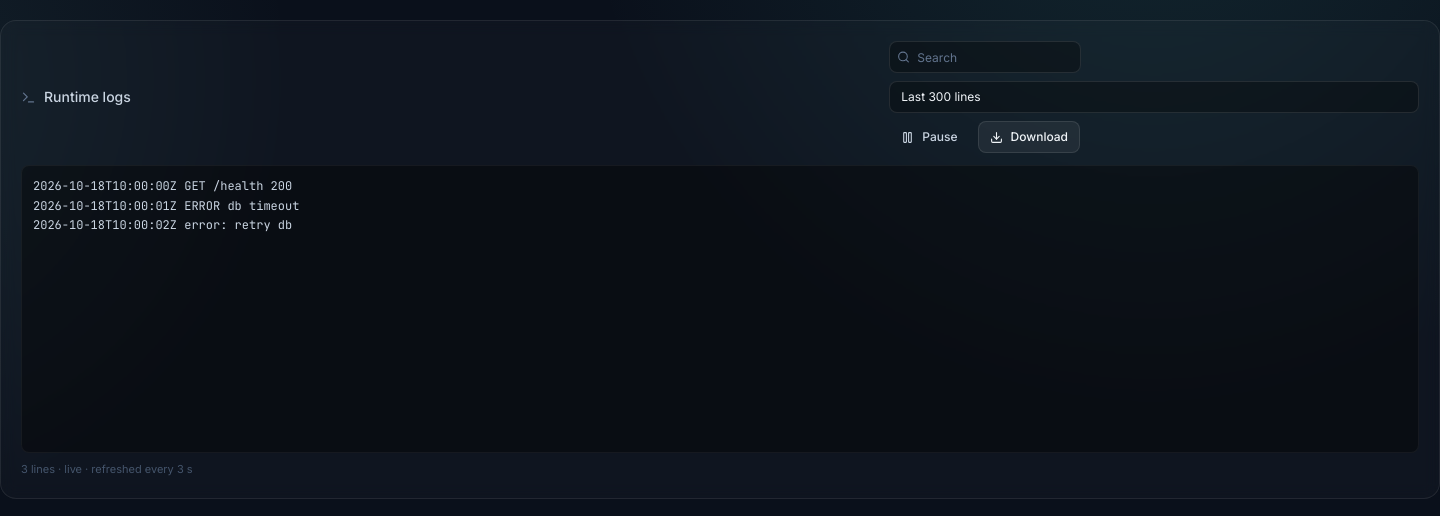
Test: RuntimeLogsCard › shows every line, then only the lines that match the search (case-insensitive), with the matches marked
The image size is (1440, 516).
Expected: the text "3 lines · live · refreshed every 3 s" is shown, [21,462,193,476]
Type "Error" into the field named "Search logs".
click(985, 57); type("Error")  # box [889,41,1081,73]
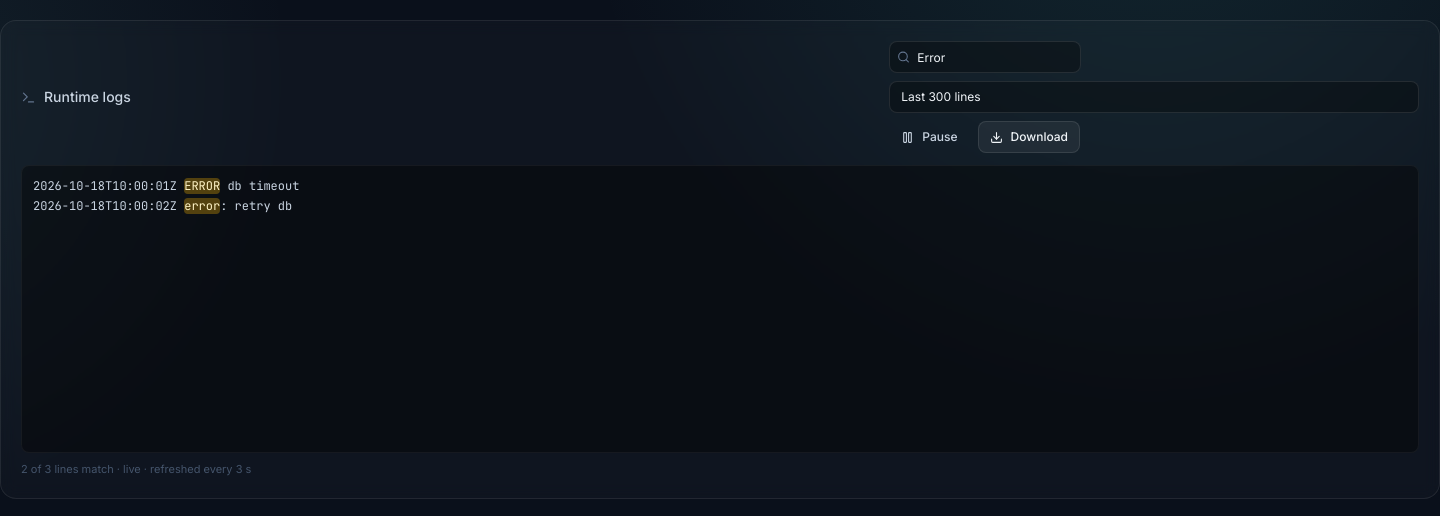
Expected: the text "2 of 3 lines match · live · refreshed every 3 s" is shown, [21,462,251,476]
// Every occurrence in a line is marked.
Replace the text in the field named "Search logs" with "db" at (985, 57), box [889,41,1081,73]
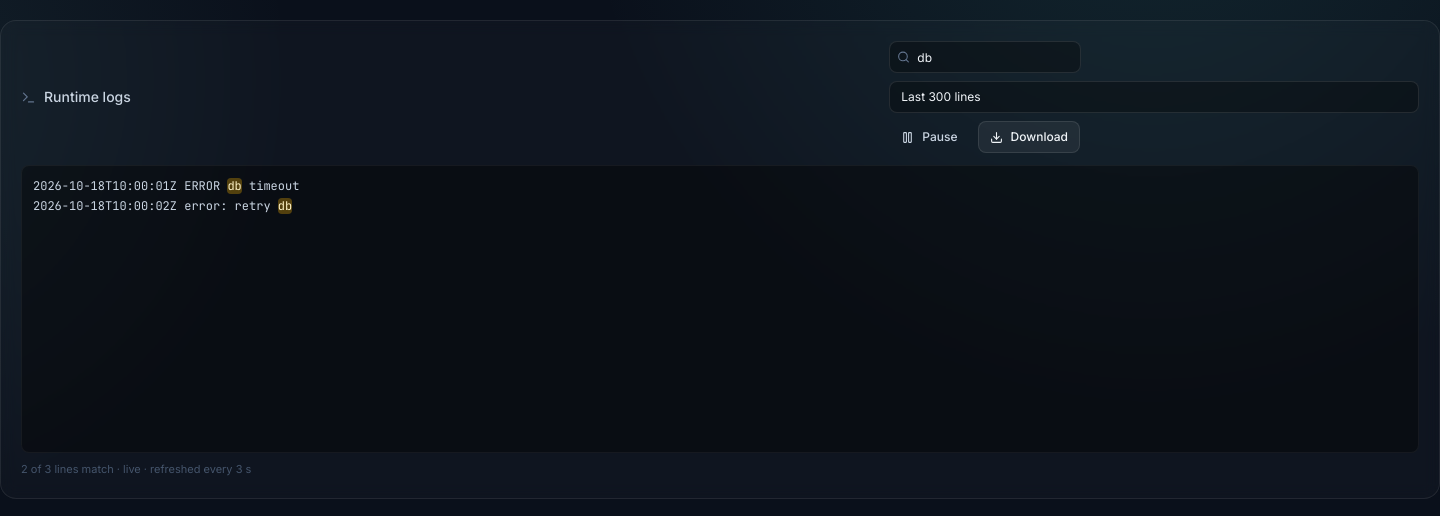
Replace the text in the field named "Search logs" with "nothing-like-this" at (985, 57), box [889,41,1081,73]
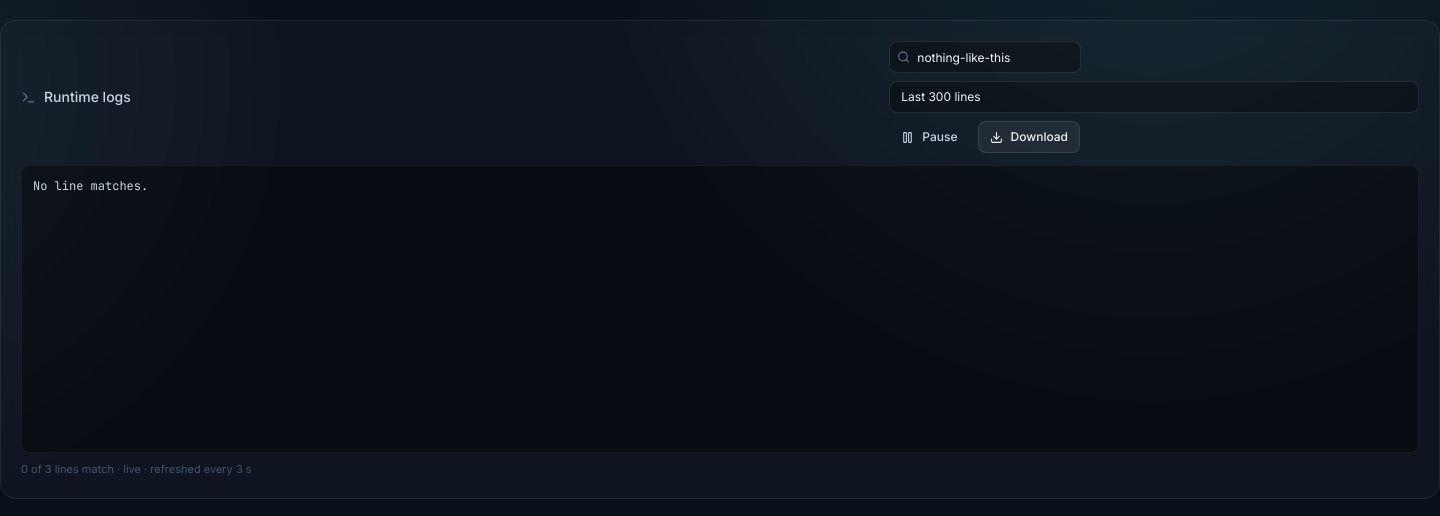
Expected: the text "No line matches." is shown, [21,165,1419,453]
